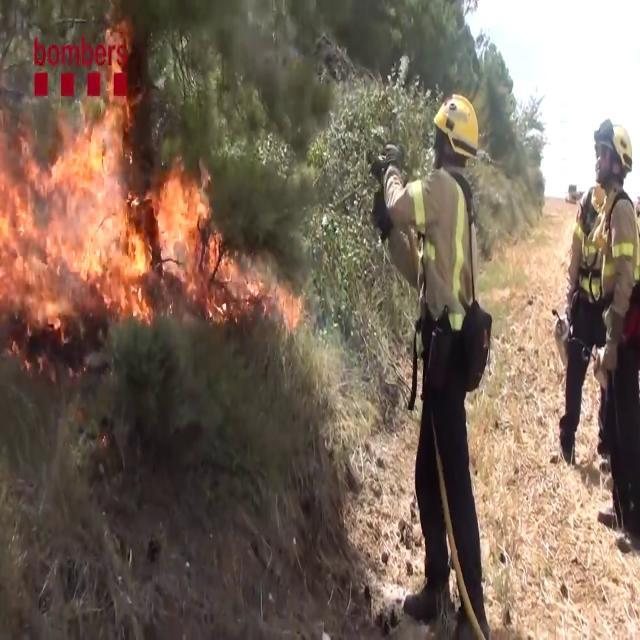Fire: (0, 34, 282, 330)
